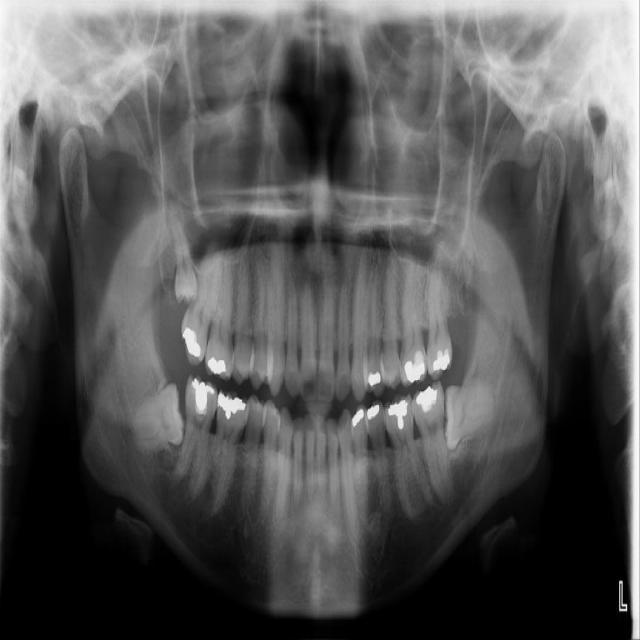3M ESPE Implant: (166, 200, 199, 307)
52: (379, 392, 420, 449), (410, 381, 446, 436), (185, 374, 219, 424), (215, 389, 251, 435), (182, 305, 207, 367), (204, 336, 234, 382), (399, 342, 428, 387), (425, 335, 452, 380), (363, 399, 388, 446), (363, 350, 384, 398), (352, 405, 369, 448)
73: (615, 582, 623, 602)
BioHorizons Implant: (425, 250, 454, 382)
Biomet 3i Implant: (443, 378, 492, 451)
Blue Sky Bio Implant: (409, 380, 453, 506)
Caries: (173, 238, 231, 368)
Implant: (170, 374, 223, 502)
Keystone Dental Implant: (124, 382, 190, 459)
